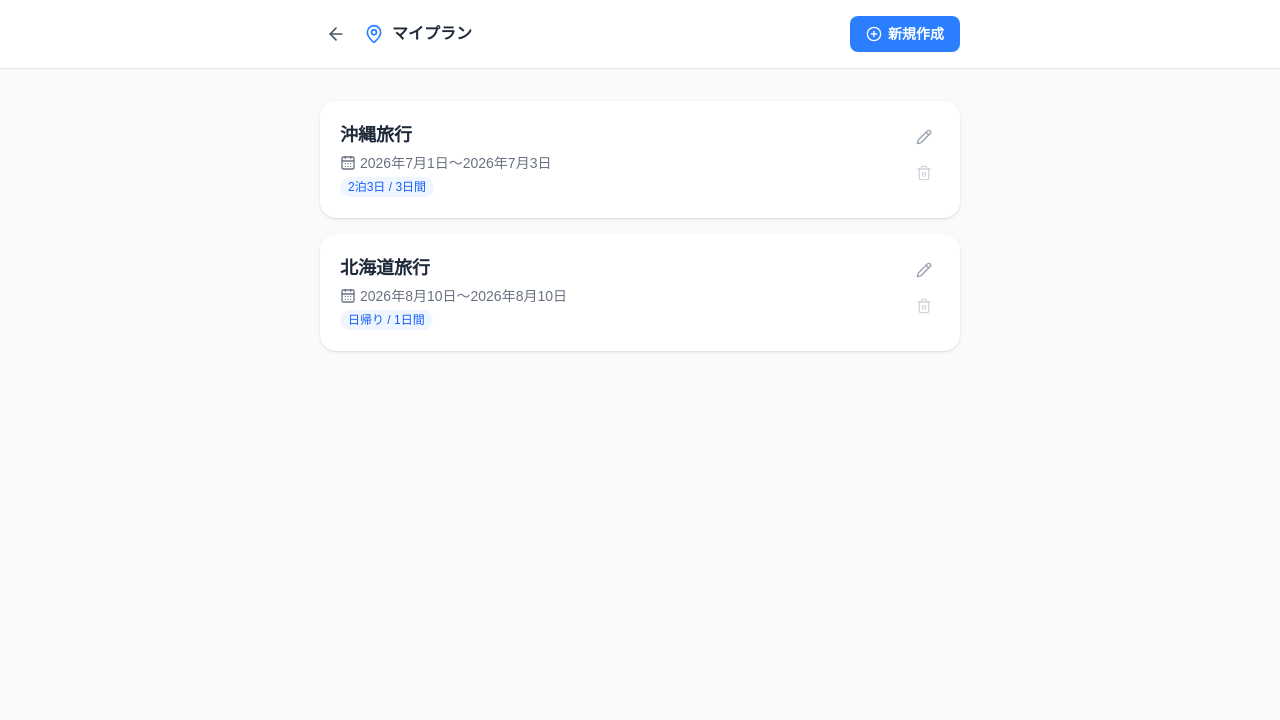
MyPlansPage › 確認モーダルでキャンセルするとモーダルが閉じる
What coordinates should you click on to do the following:
click the button named "削除" in the row of "2026年7月3日"
I would click on:
 (924, 173)
Its box is [908, 157, 940, 189].
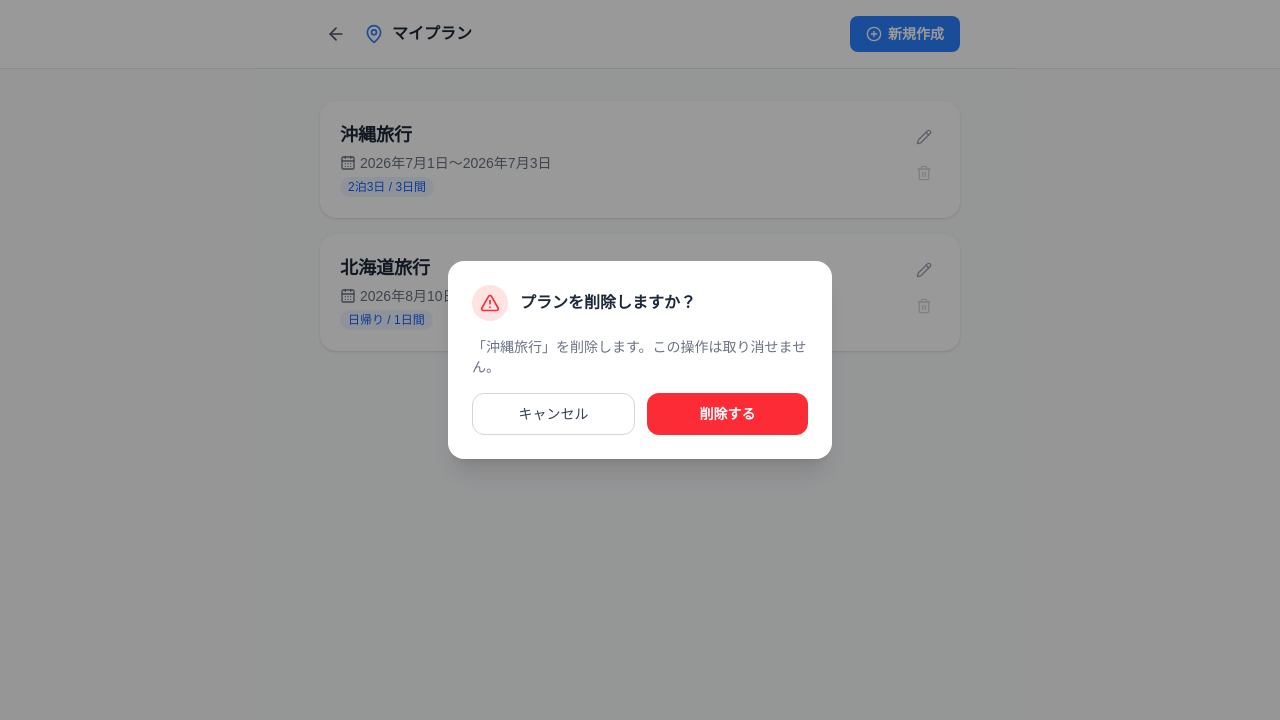
Expected: the heading "プランを削除しますか？" is shown, [520, 291, 696, 315]
What coordinates should you click on to do the following:
click the button "キャンセル"
I would click on:
 (554, 414)
Its box is [472, 393, 635, 435].
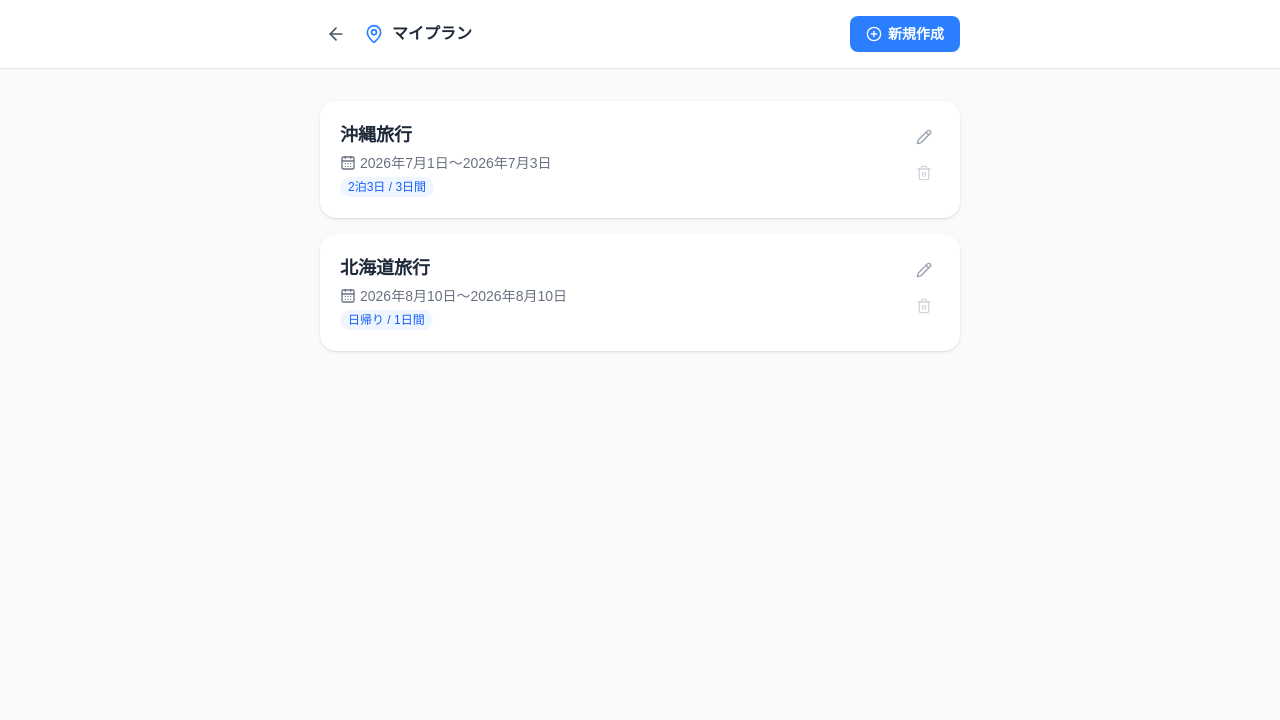
Expected: the heading "プランを削除しますか？" is gone
